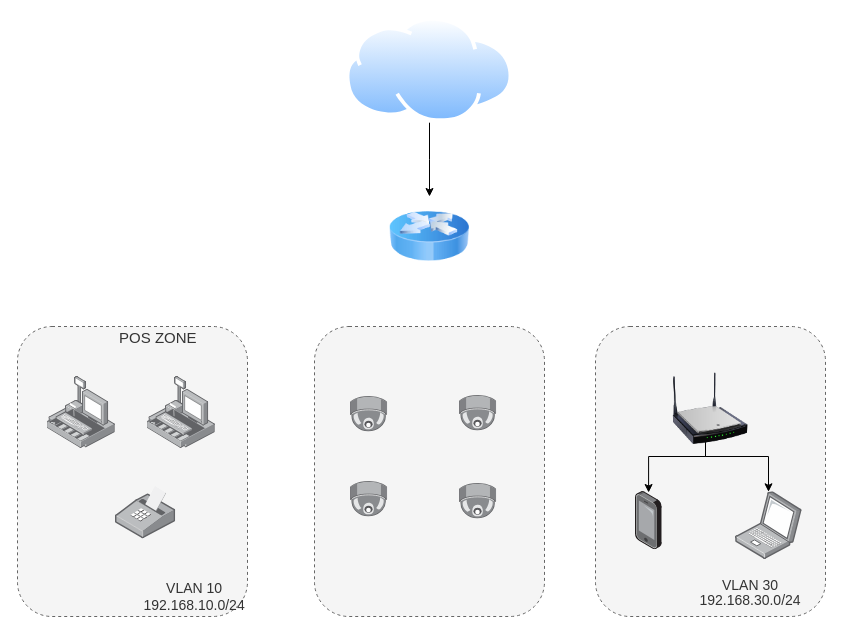
Some shapes in this 843 by 634 pixel diagram are drawn without their labels. Here are the shapes that lost their labels. From the top down, the box of each, then its label:
(346, 17, 512, 122): INTERNET
(314, 326, 544, 616): VLAN 20 192.168.20.0/24
